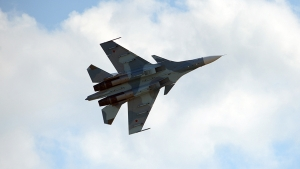flight: (84, 37, 225, 136)
